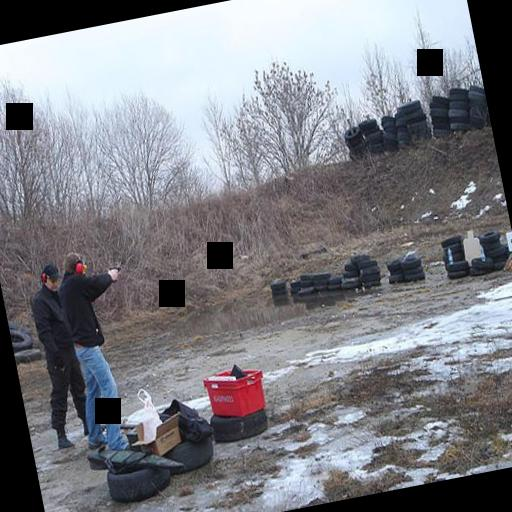Handgun: (102, 264, 122, 284)
